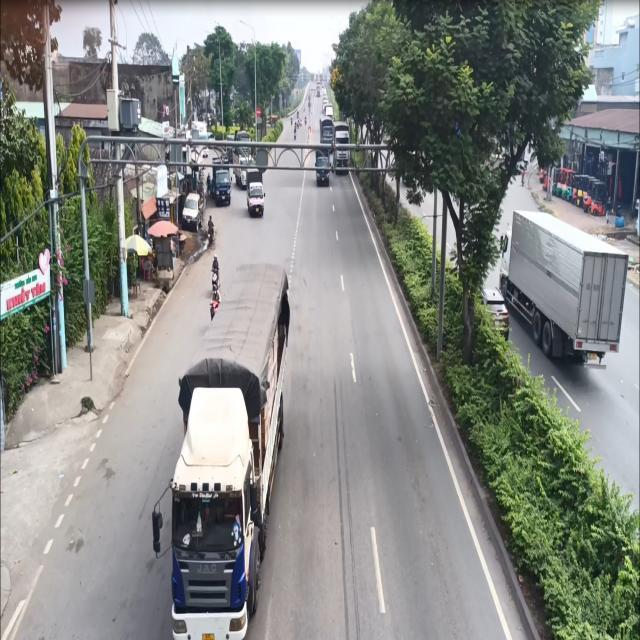truck: (166, 262, 305, 637), (498, 208, 628, 368), (240, 169, 272, 221), (306, 148, 339, 194)
